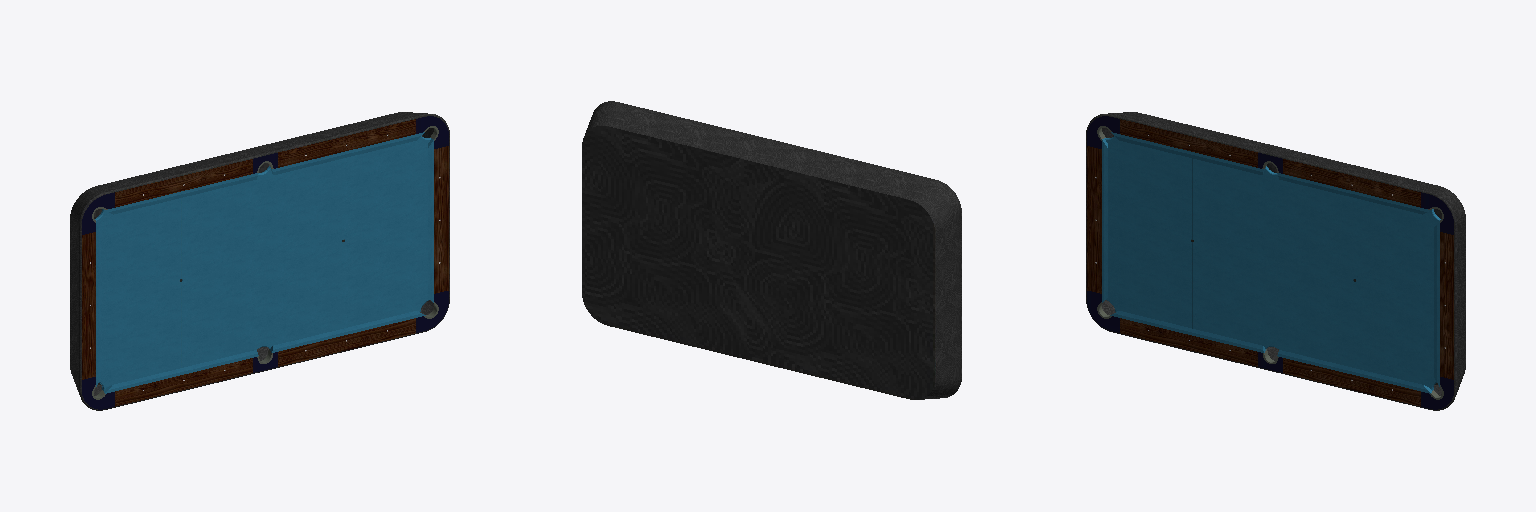
3 renders of one model, left to right at view 1: azimuth 30°, elevation 25°; view 2: azimuth 150°, elevation 25°; view 3: azimuth 330°, elevation 25°, orthographic.
Size of the model in its own units: 2.9 by 1.63 by 0.254.
Materials: 6 (1 with a texture image).